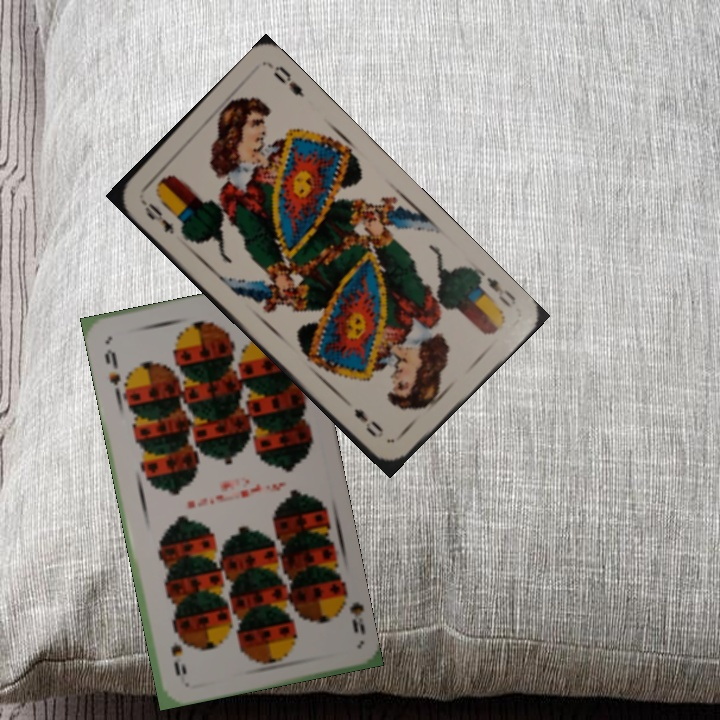EO: (473, 266, 519, 315), (136, 195, 177, 237)
S9: (333, 585, 368, 638), (100, 345, 123, 388)
